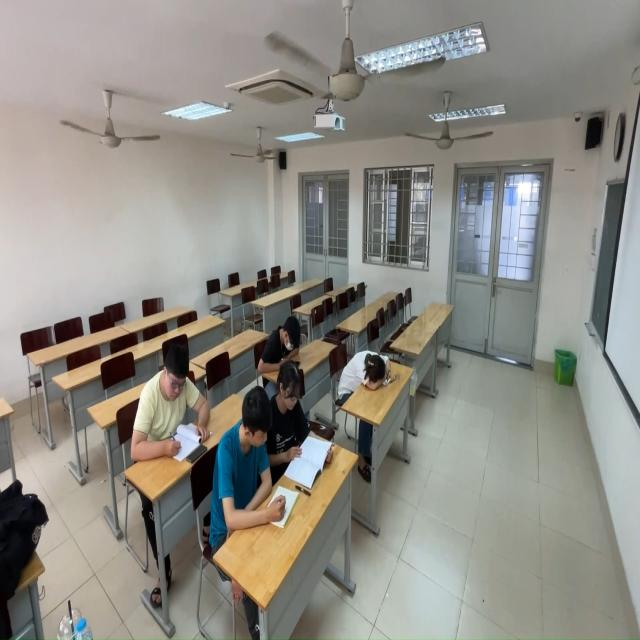read: (209, 381, 286, 558), (135, 338, 208, 476), (270, 357, 333, 484), (263, 304, 302, 380)
sleep: (340, 329, 409, 398)
